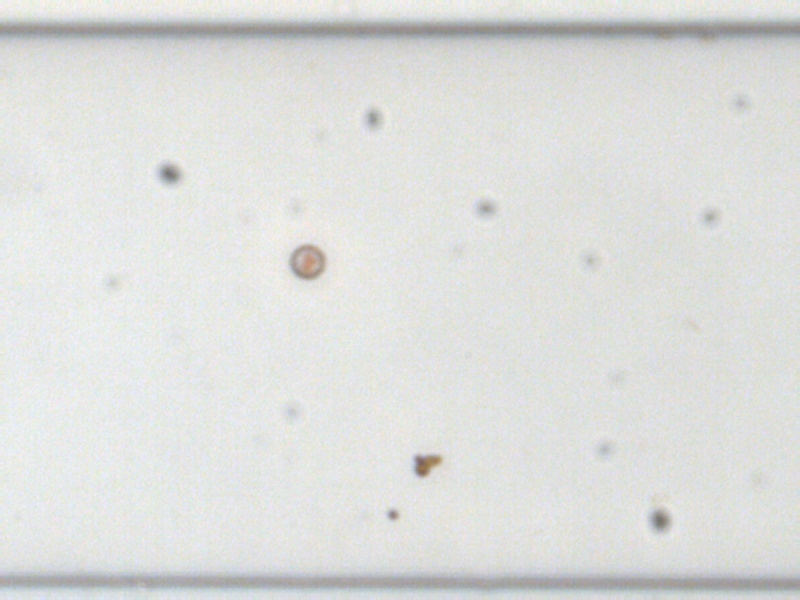Chlorella: (411, 460, 429, 475), (425, 453, 441, 466)
Porphyridium: (290, 244, 323, 279)
